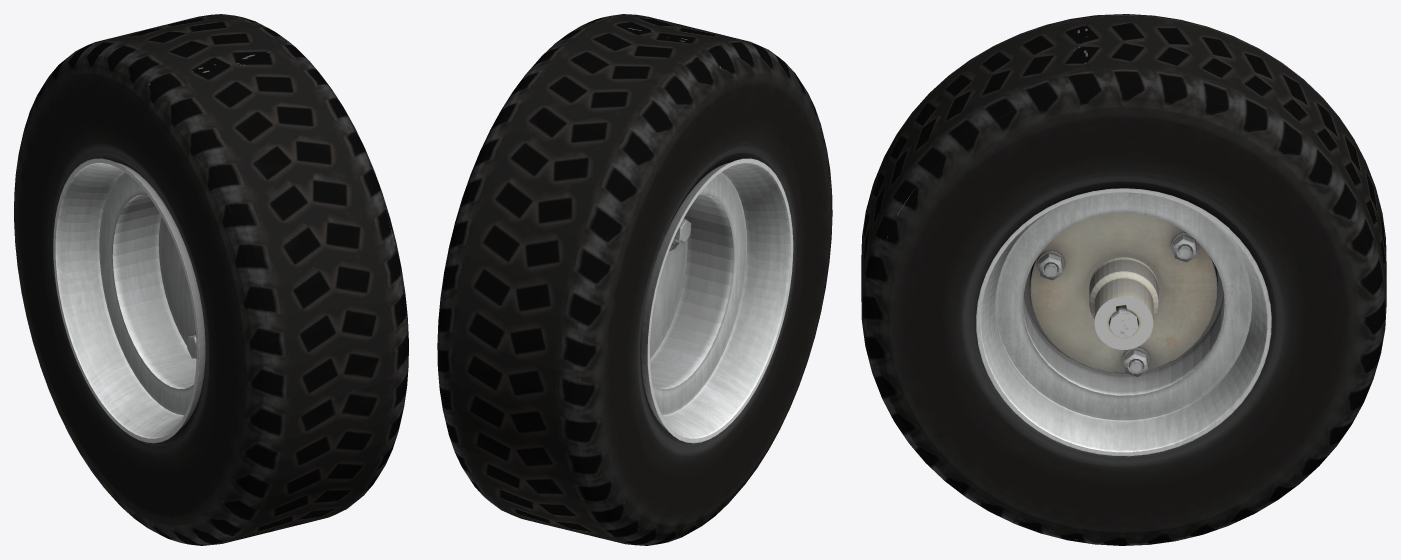
The model's file is wheel.dae.
3 views of the same model, side by side, from view 1: azimuth 30°, elevation 25°; view 2: azimuth 150°, elevation 25°; view 3: azimuth 270°, elevation 25° (orthographic).
Visible parts, largest first — view 1: Wiel_Urdf_Wiel_Urdf_001; view 2: Wiel_Urdf_Wiel_Urdf_001; view 3: Wiel_Urdf_Wiel_Urdf_001.
Boxes of the visible parts, left/top/right/bottom form: Wiel_Urdf_Wiel_Urdf_001: left=14, top=14, right=408, bottom=545; Wiel_Urdf_Wiel_Urdf_001: left=437, top=14, right=832, bottom=545; Wiel_Urdf_Wiel_Urdf_001: left=861, top=14, right=1386, bottom=545.
Size of the model in its own units: 120 by 302 by 302.
1 material, 1 textured.
